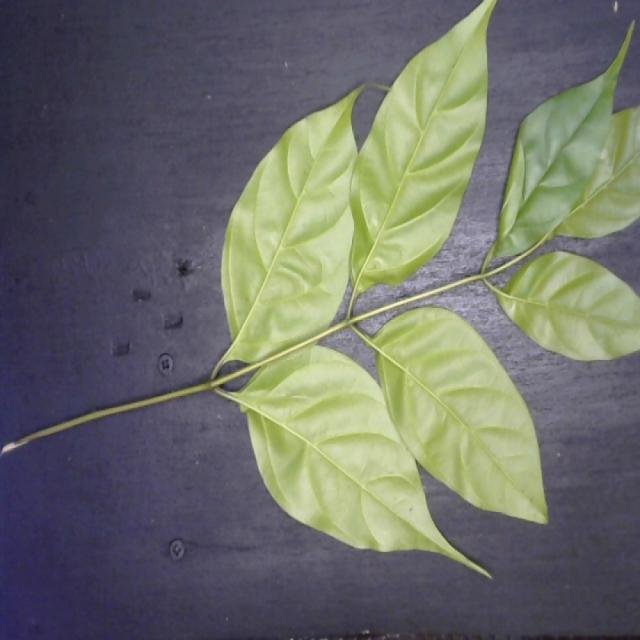biodegradable: (206, 4, 640, 586)
